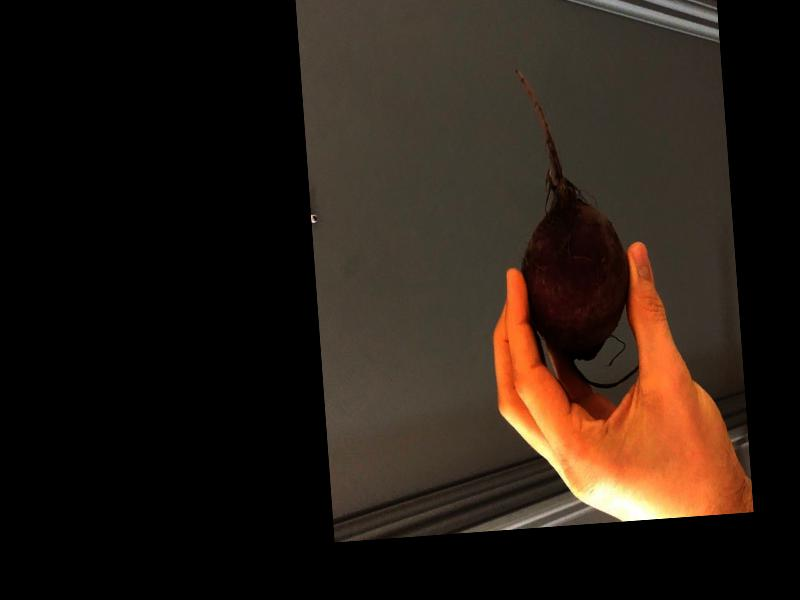Beet: (509, 55, 638, 391)
